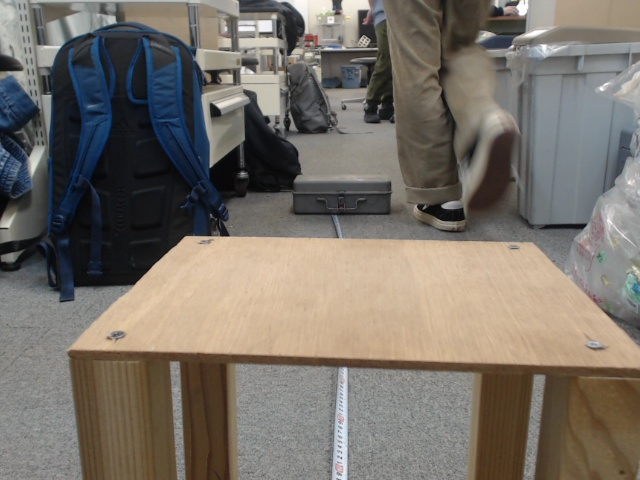desk: (272, 124, 503, 380)
